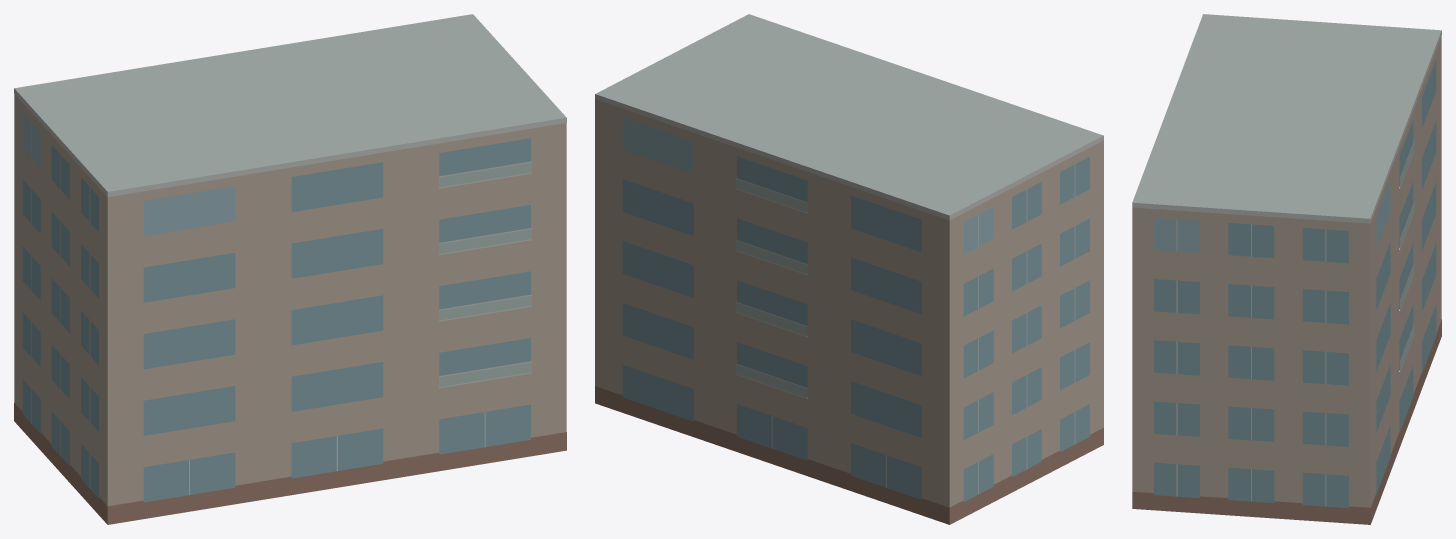
Rendered from survey-upis-32627536.glb.
The picture shows the model from 3 angles, left to right: view 1: azimuth 30°, elevation 25°; view 2: azimuth 150°, elevation 25°; view 3: azimuth 270°, elevation 25°; orthographic projection. The views are drawn at different scales.
Parts seen in each view (by area): view 1: survey-upis-32627536.tmp; view 2: survey-upis-32627536.tmp; view 3: survey-upis-32627536.tmp.
Boxes of the visible parts, <box> form: survey-upis-32627536.tmp: <box>14,14,566,524</box>; survey-upis-32627536.tmp: <box>595,14,1103,524</box>; survey-upis-32627536.tmp: <box>1132,14,1441,524</box>.
Size of the model in its own units: 22.18 by 15.45 by 14.17.
